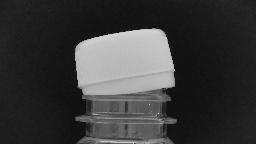Broken Cap: (69, 25, 183, 127)
Loose Cap: (70, 72, 182, 128)
